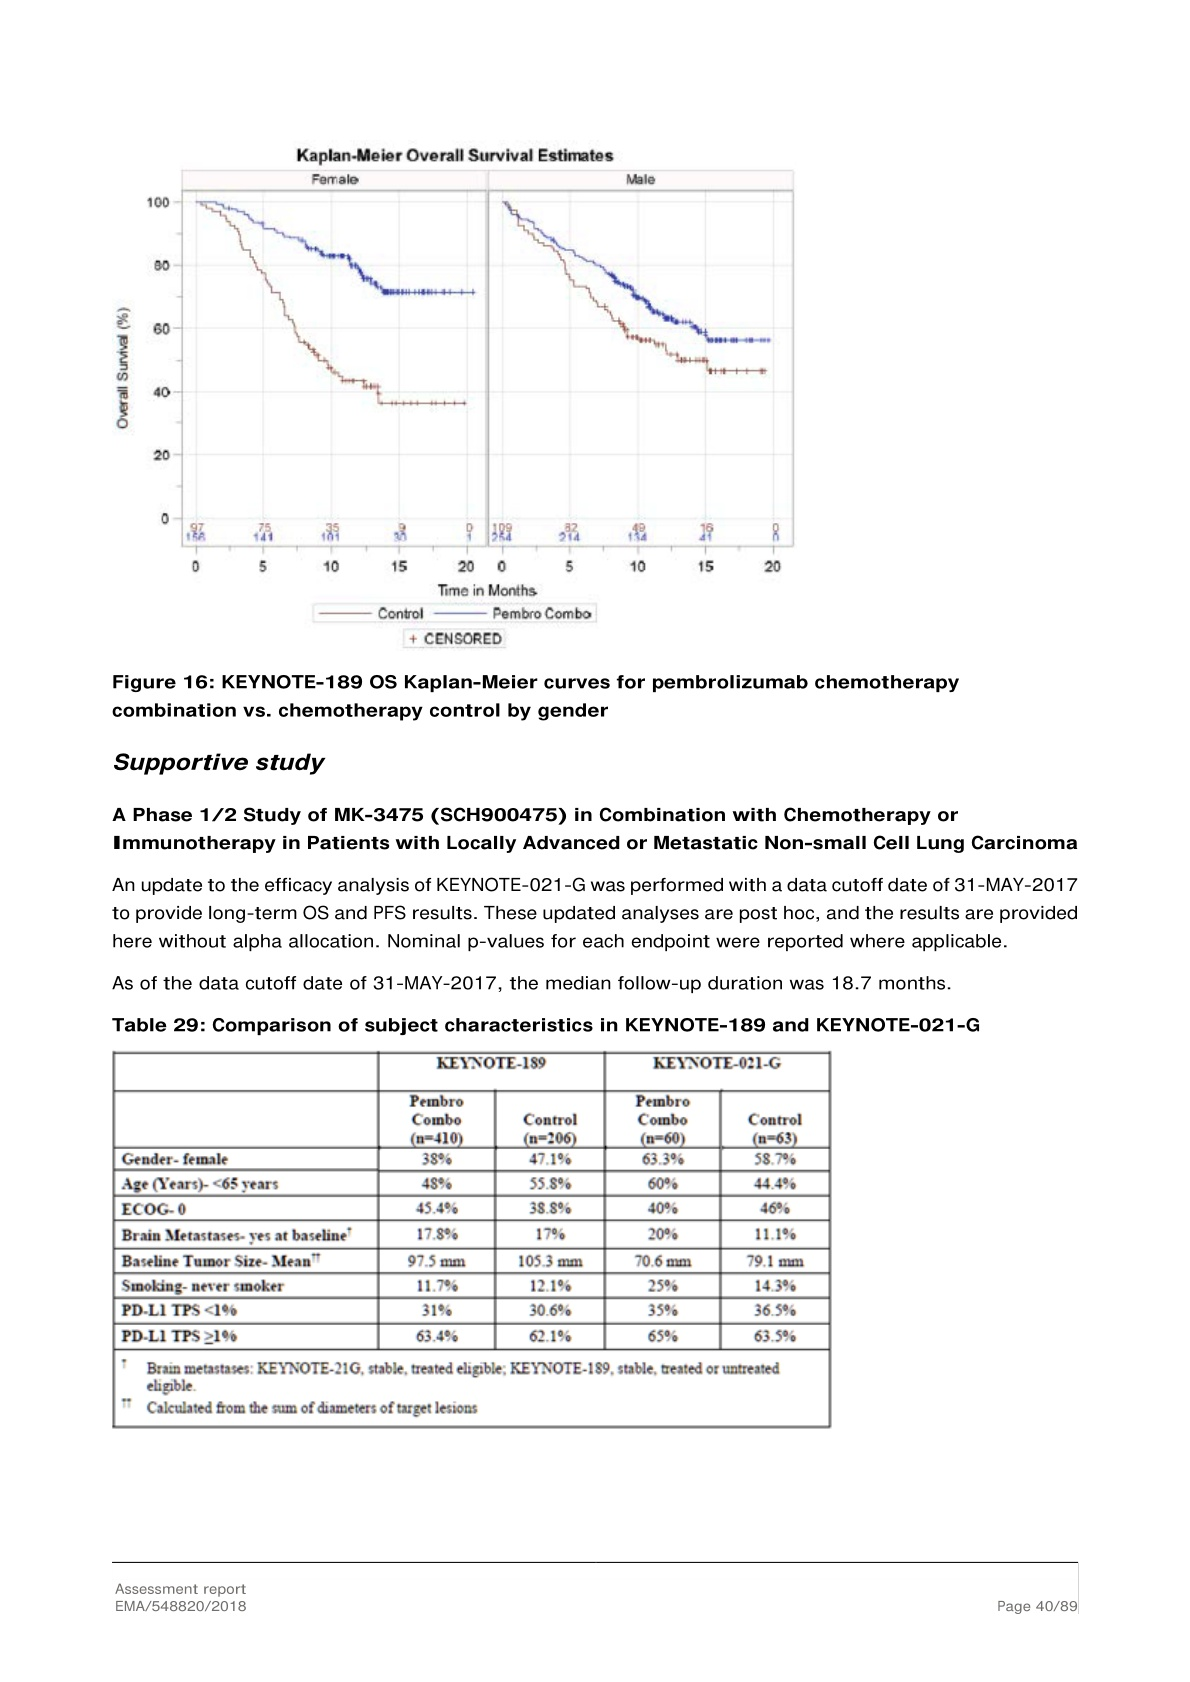merged_cells: (112, 1050, 832, 1428)
